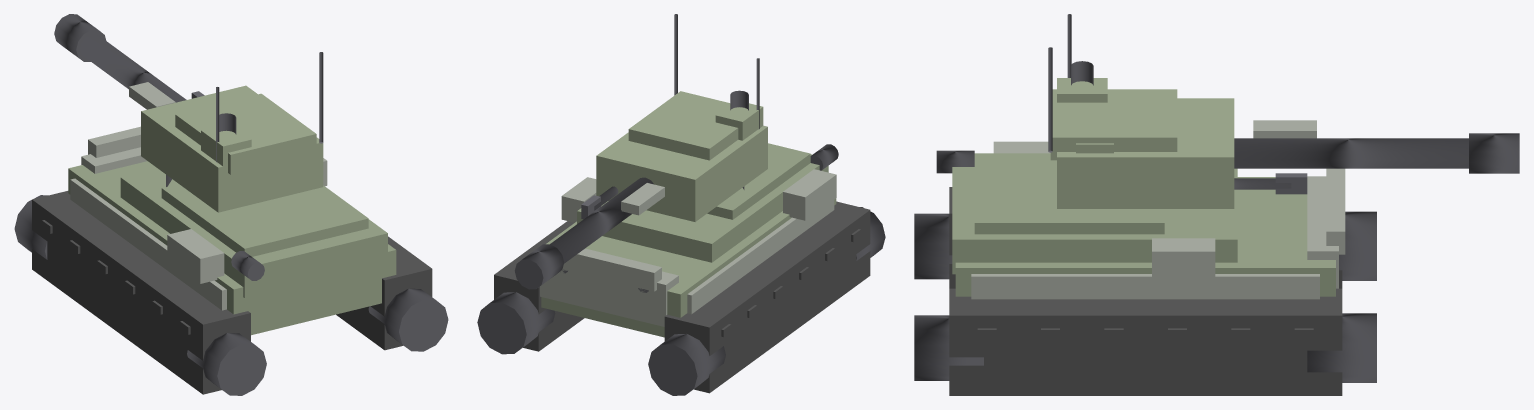
Rendered from tank_legacy.glb.
3 renders of one model, left to right at view 1: azimuth 30°, elevation 25°; view 2: azimuth 150°, elevation 25°; view 3: azimuth 270°, elevation 25°, orthographic. The views are drawn at different scales.
Visible parts, largest first — view 1: tank; view 2: tank; view 3: tank.
Part boxes in pixels (x1,y1,x2,y2): tank: (14, 14, 448, 395); tank: (477, 14, 885, 395); tank: (914, 14, 1519, 395).
Bounding box in the file's own units: 4.9 × 5.4 × 9.55.
